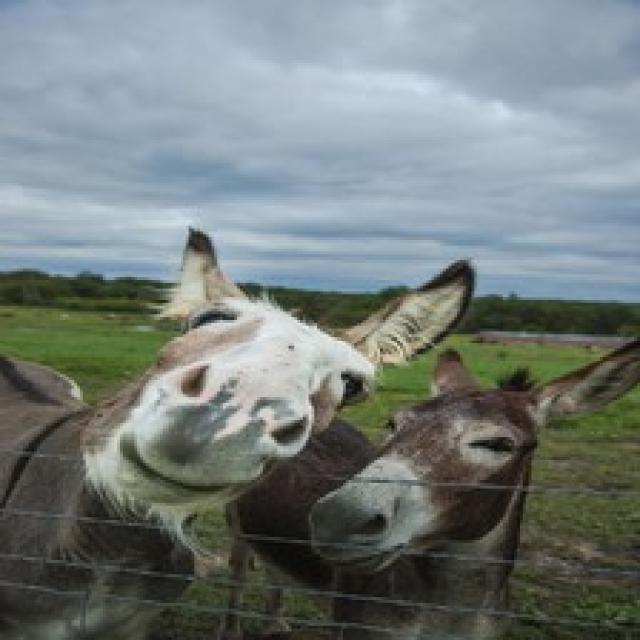Donkey: (0, 176, 494, 600), (243, 277, 640, 640)
